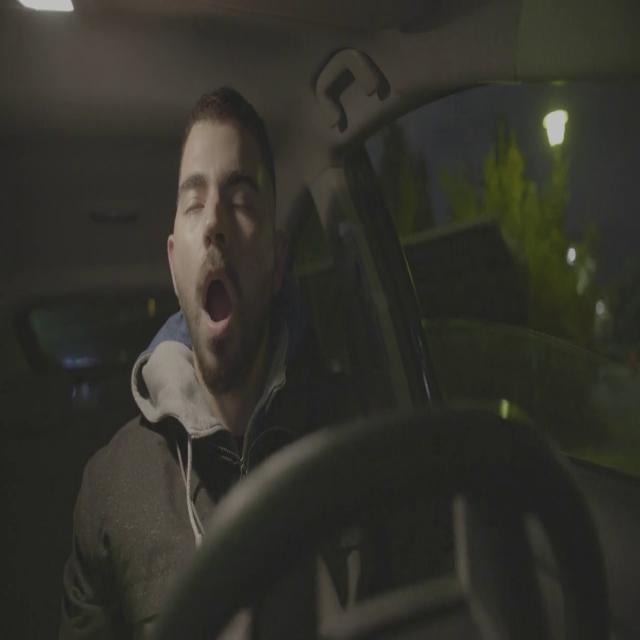open-mouth: (197, 263, 237, 342)
